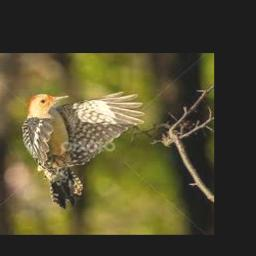Woodpecker: (21, 91, 144, 208)
